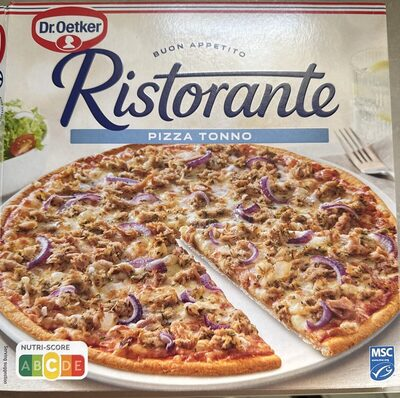Ristorante PIZZA TONNO: (20, 20, 380, 378)
